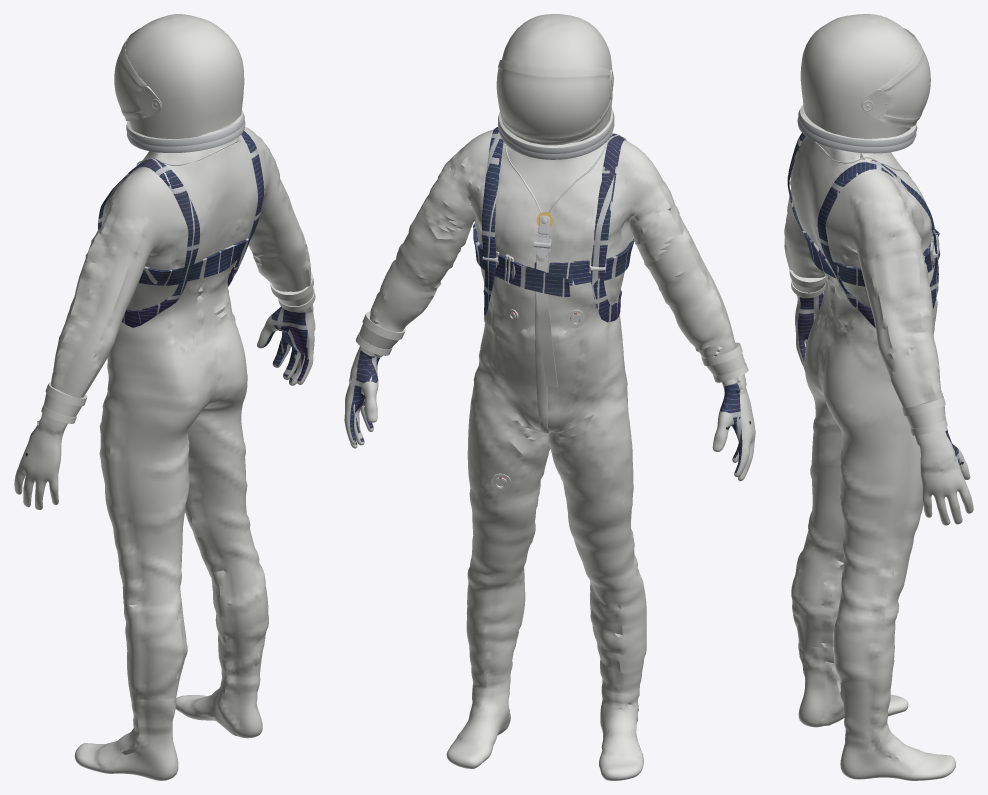
File: mercury-spacesuit.glb
3 renders of one model, left to right at view 1: azimuth 30°, elevation 25°; view 2: azimuth 150°, elevation 25°; view 3: azimuth 270°, elevation 25°, orthographic.
Parts seen in each view (by area): view 1: Mercury Spacesuit; view 2: Mercury Spacesuit; view 3: Mercury Spacesuit.
Boxes of the visible parts, left/top/right/bottom form: Mercury Spacesuit: left=14, top=14, right=315, bottom=780; Mercury Spacesuit: left=344, top=14, right=755, bottom=780; Mercury Spacesuit: left=784, top=14, right=973, bottom=780.
Size of the model in its own units: 0.9948 by 2 by 0.4718.
6 materials, 1 textured.
